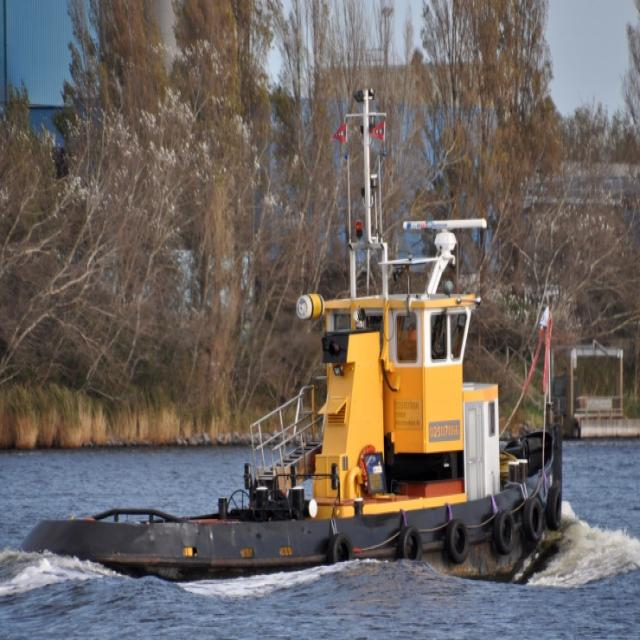tugboat: (17, 85, 575, 606)
